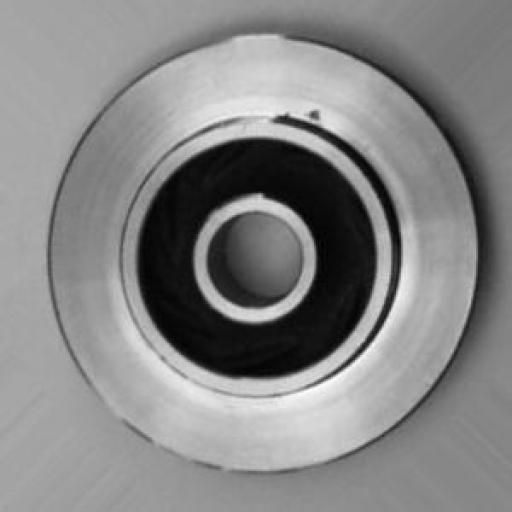defect: (294, 91, 336, 140)
